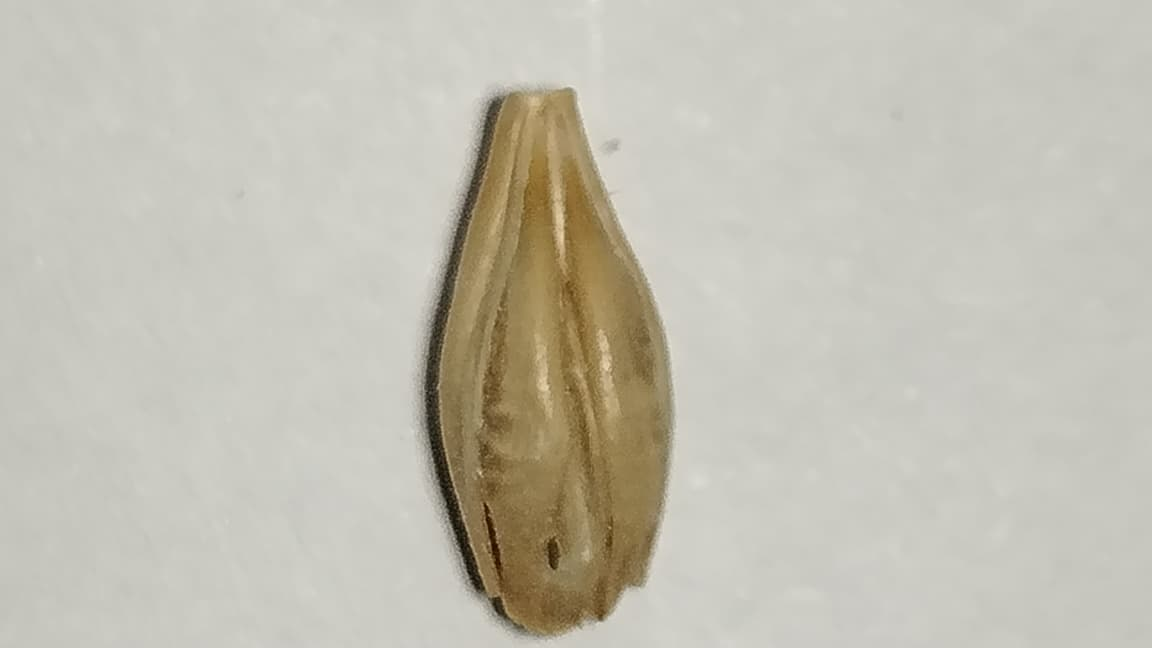healthy-50-40: (435, 90, 671, 632)
